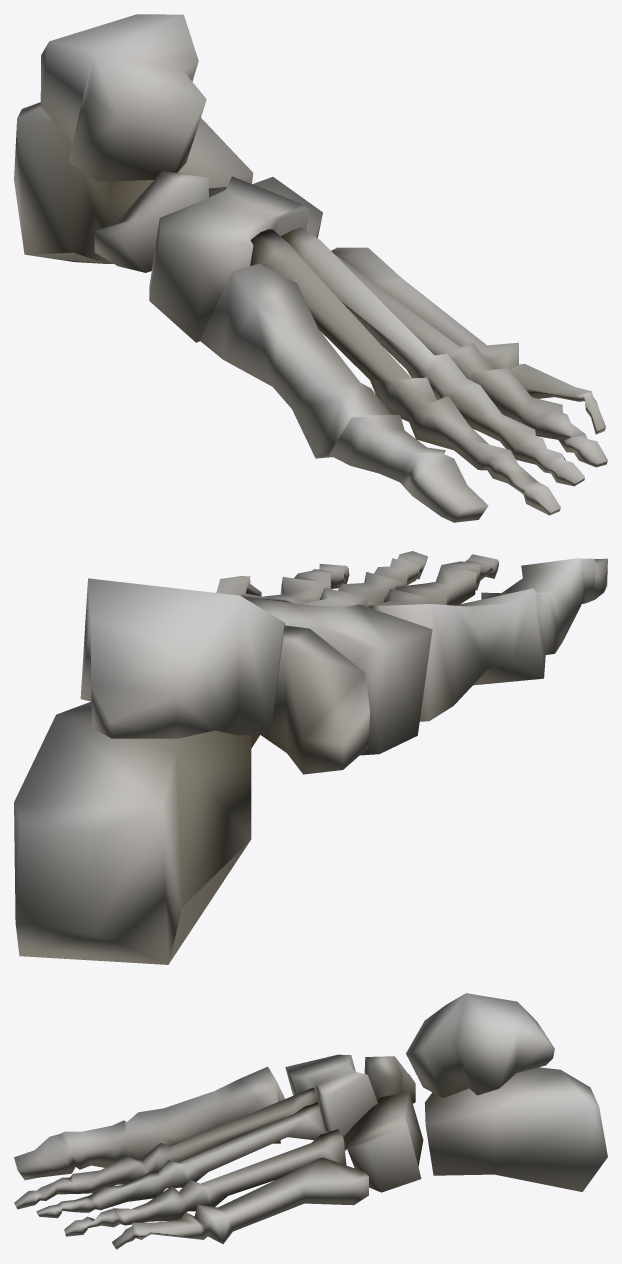
The picture shows the model from 3 angles, top to bottom: view 1: azimuth 30°, elevation 25°; view 2: azimuth 150°, elevation 25°; view 3: azimuth 270°, elevation 25°; orthographic projection. The views are drawn at different scales.
Parts seen in each view (by area): view 1: alt345; view 2: alt345; view 3: alt345.
Part boxes in pixels (x1,y1,x2,y2): alt345: (14,14,607,522); alt345: (14,551,607,964); alt345: (14,993,607,1249).
Bounding box in the file's own units: 0.198 × 0.1613 × 0.5.
